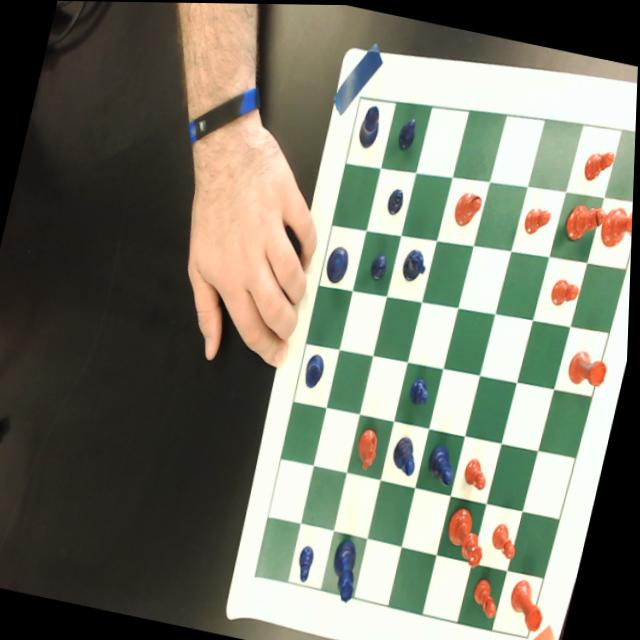B: (427, 440, 463, 486), (392, 432, 424, 476)
K: (324, 242, 353, 284)
N: (399, 239, 432, 287)
P: (298, 542, 320, 583), (396, 113, 419, 149), (409, 373, 434, 404), (386, 184, 407, 216), (370, 250, 390, 281)
Q: (328, 536, 368, 602)
R: (356, 100, 384, 150), (303, 351, 328, 389)
b: (563, 198, 609, 245), (453, 188, 484, 228)
k: (601, 194, 635, 252)
n: (354, 423, 385, 470)
p: (582, 141, 617, 184), (472, 574, 506, 618), (491, 520, 525, 559), (522, 199, 555, 237), (550, 272, 583, 308), (463, 455, 493, 490)
q: (444, 502, 496, 567)
r: (507, 576, 554, 632), (567, 346, 612, 388)
